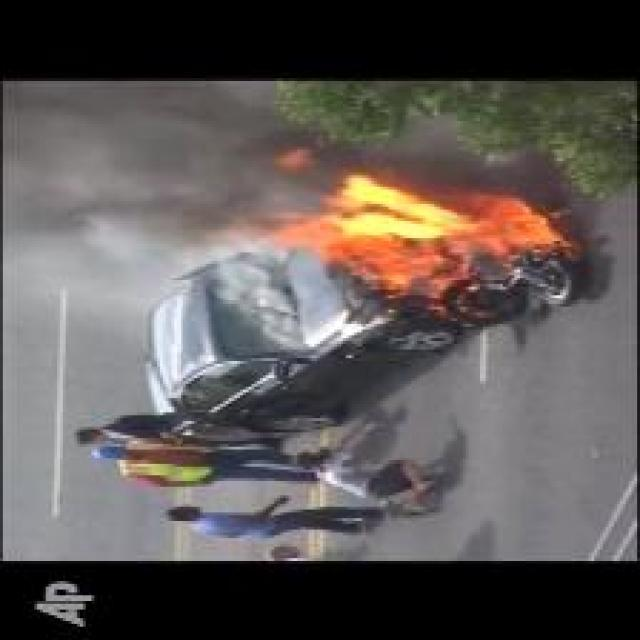Fire: (266, 146, 578, 300)
